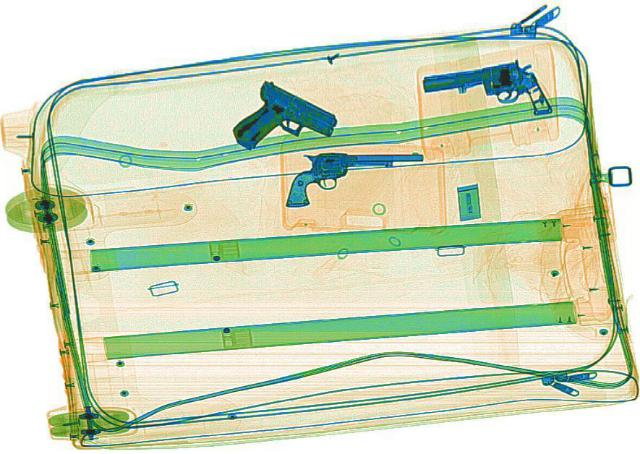Gun: (205, 77, 347, 168), (413, 58, 552, 129), (284, 151, 424, 206)
